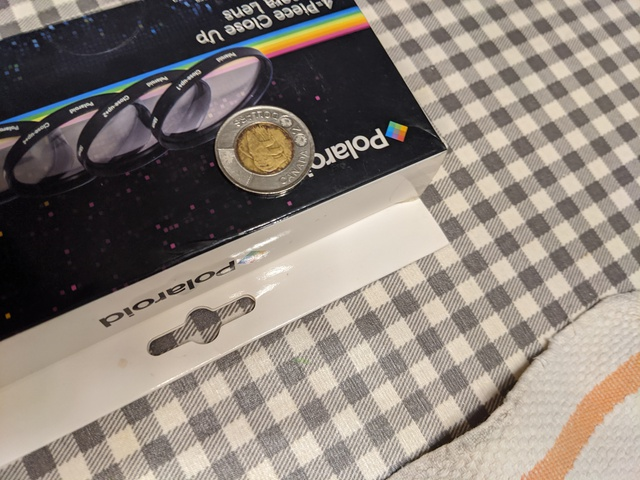twonie: (212, 95, 315, 198)
